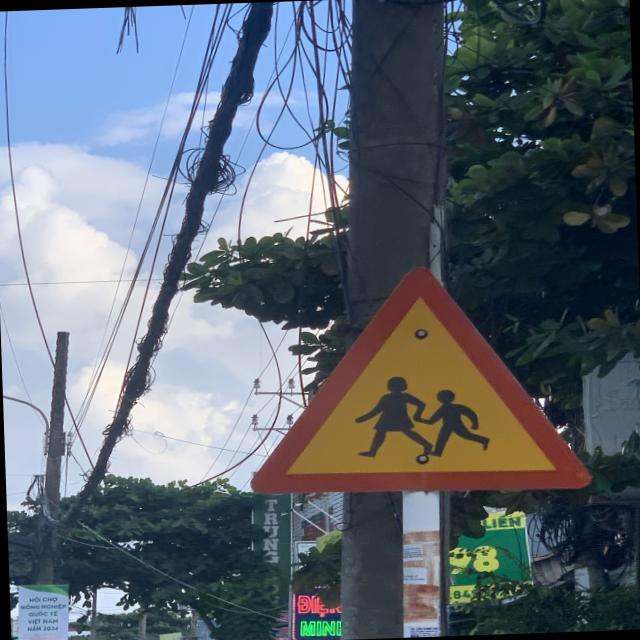Vong_Xuyen: (243, 260, 594, 500)
